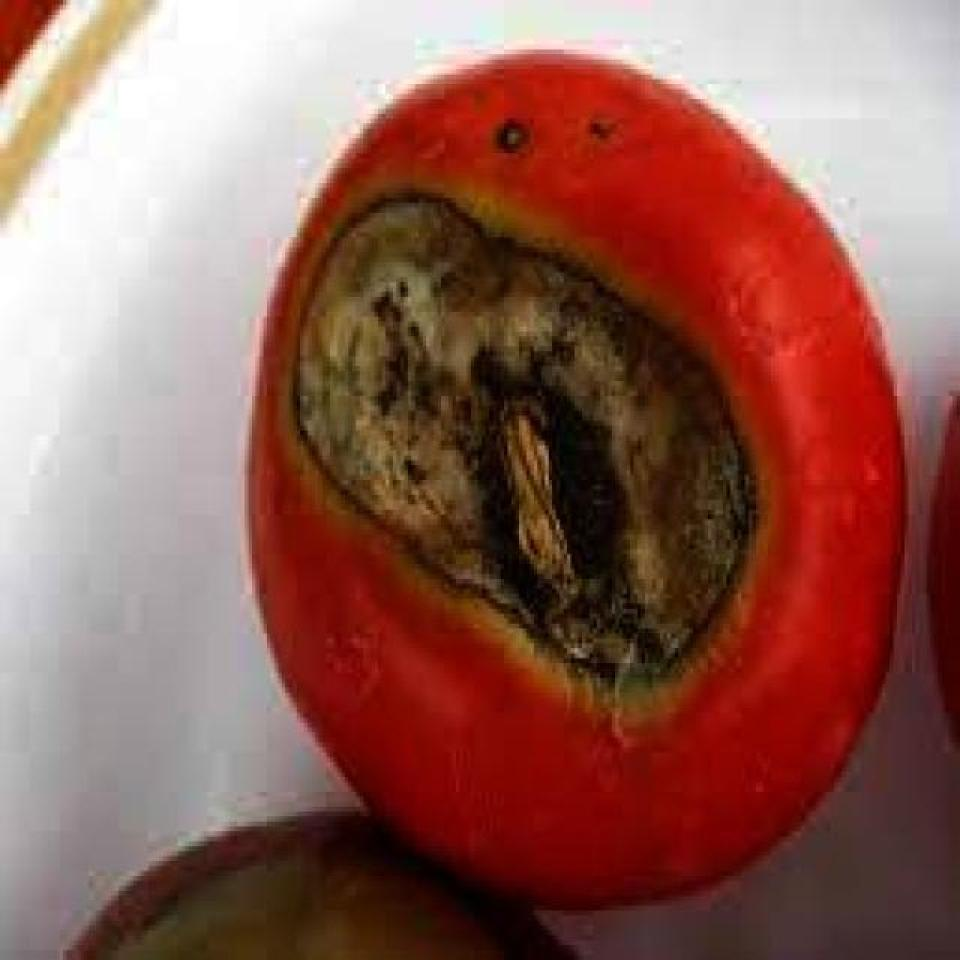Blossom_end_rot: (283, 177, 758, 702), (476, 94, 536, 158), (567, 109, 615, 143)
